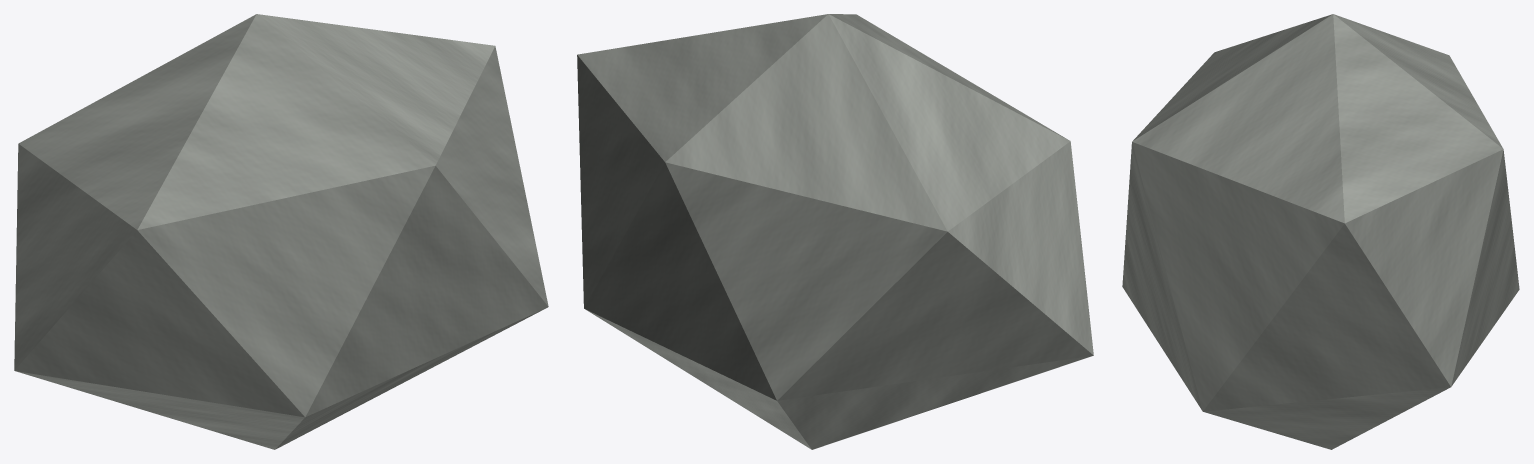
The model's file is rock_02.glb.
The picture shows the model from 3 angles, left to right: view 1: azimuth 30°, elevation 25°; view 2: azimuth 150°, elevation 25°; view 3: azimuth 270°, elevation 25°; orthographic projection. The views are drawn at different scales.
Visible parts, largest first — view 1: rock_02; view 2: rock_02; view 3: rock_02.
Boxes of the visible parts, x1,y1,x2,y2 form: rock_02: (14, 14, 548, 449); rock_02: (577, 14, 1093, 449); rock_02: (1122, 14, 1519, 449).
Bounding box in the file's own units: 1.57 × 1.32 × 1.11.
1 material, 1 textured.
